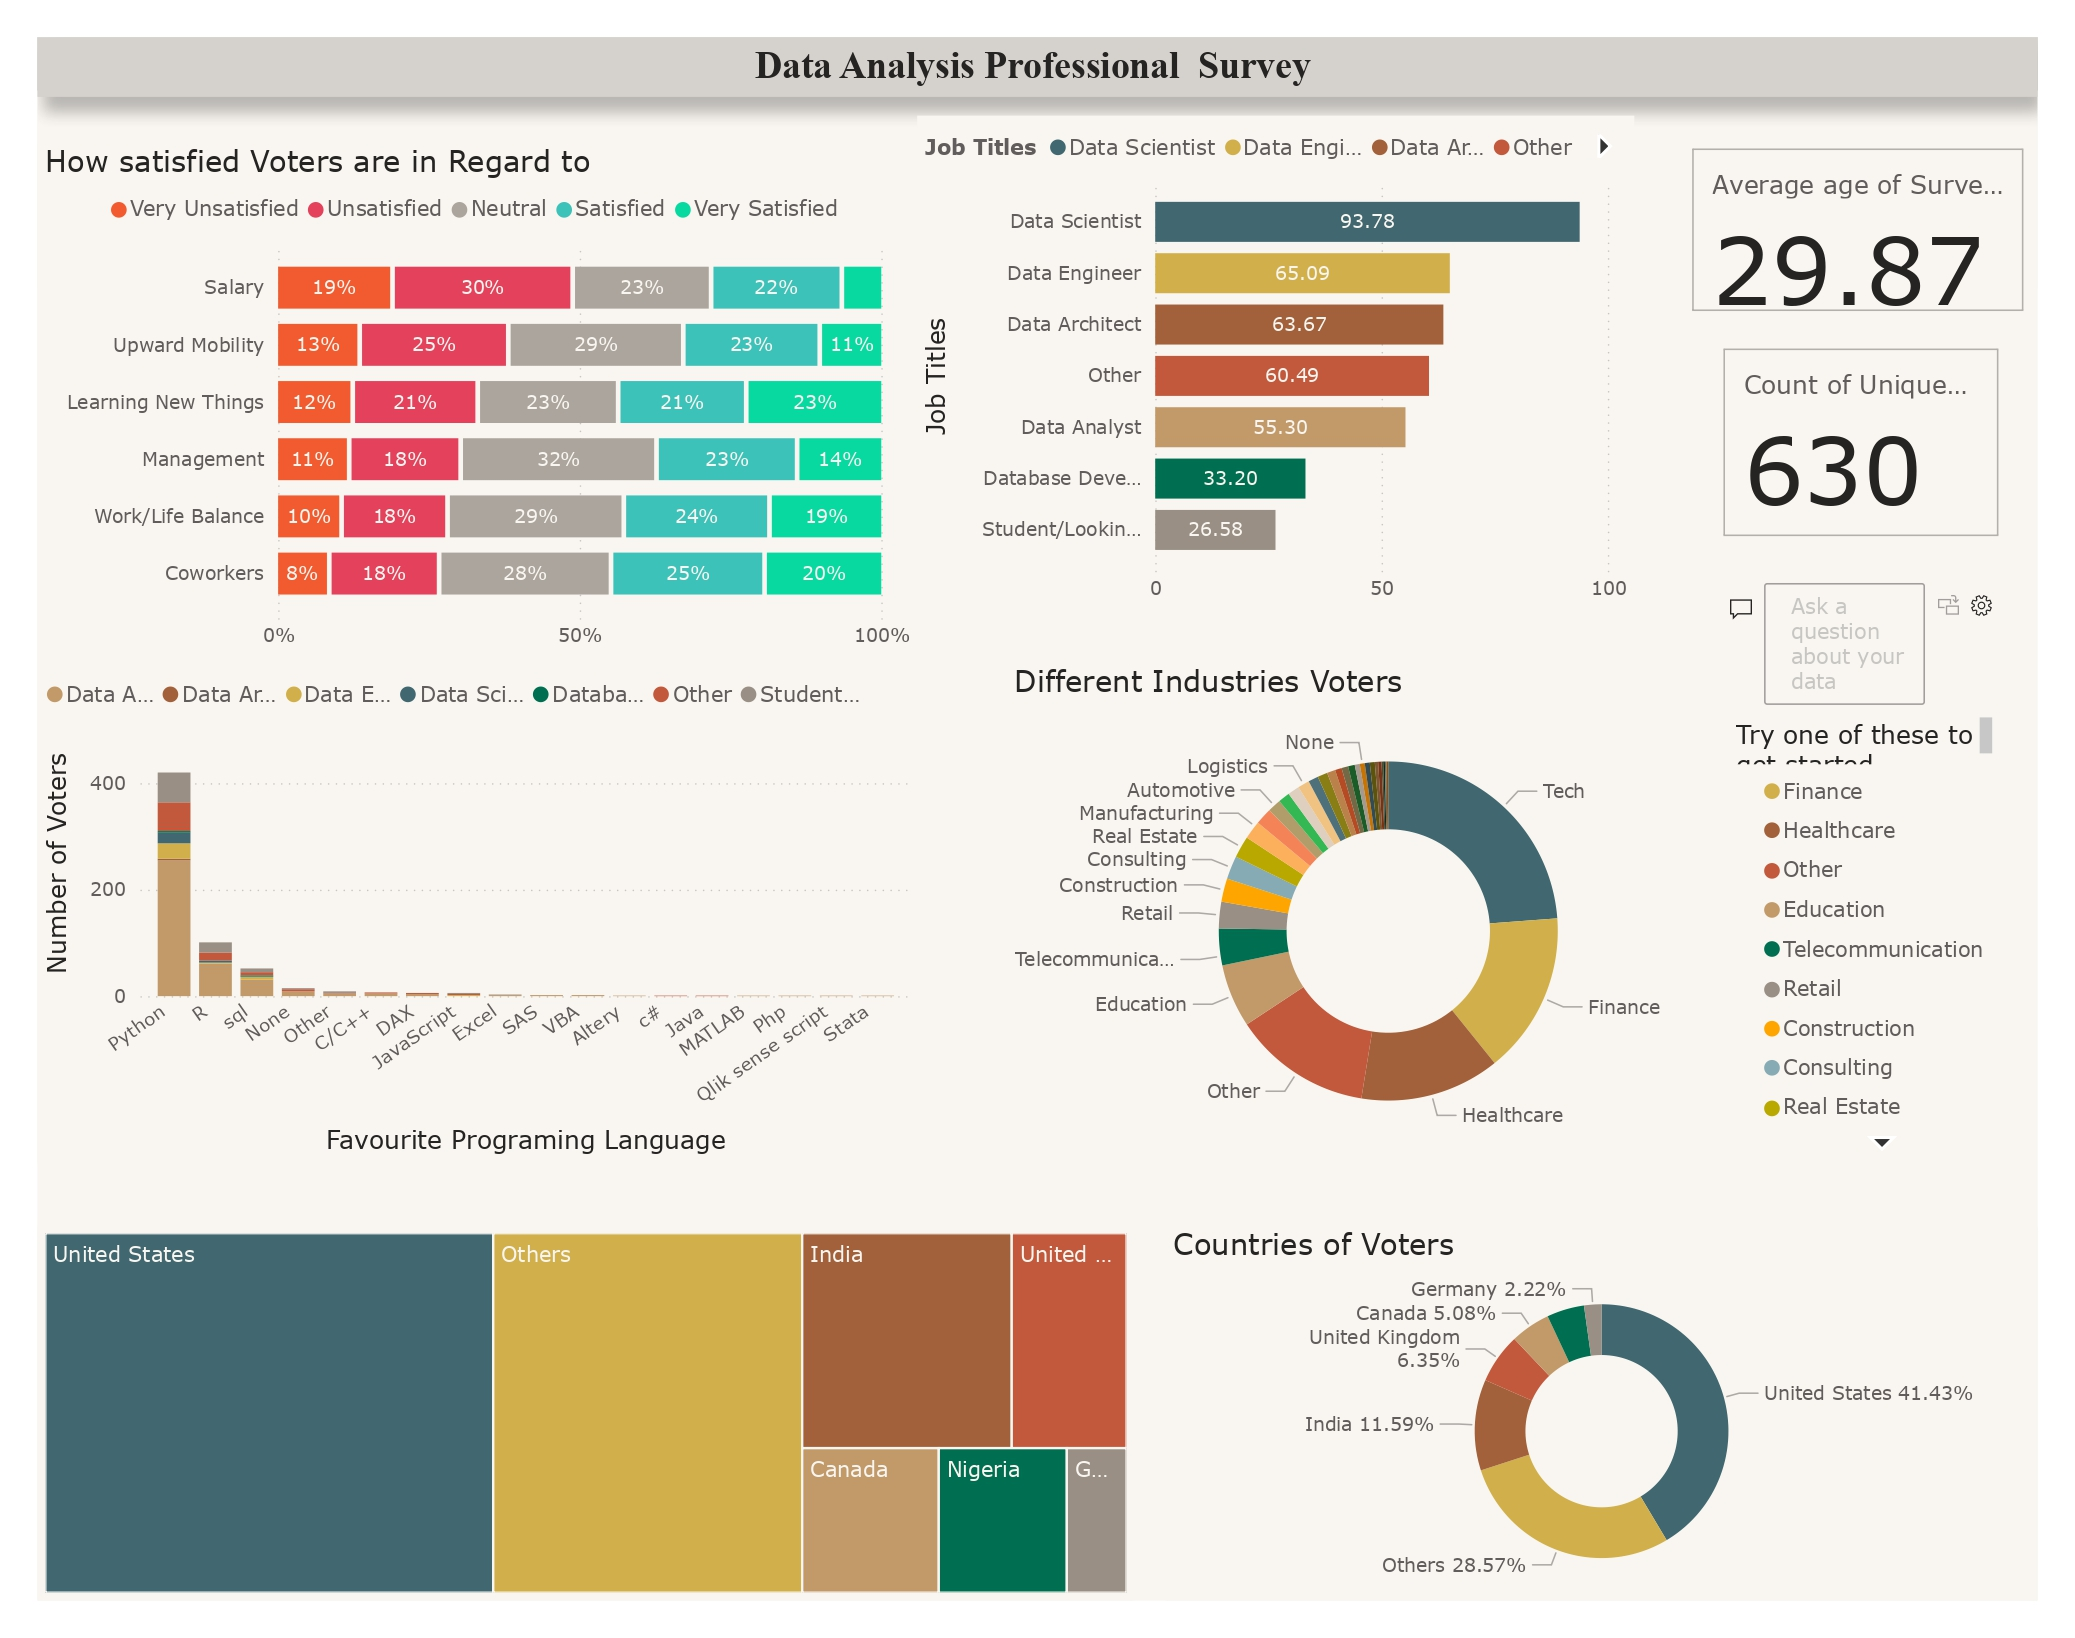

What the dashboard file says about the page in this screenshot:
{"tool":"powerbi","page":{"name":"Basic Visuals ","canvas":[1280,1000],"ordinal":0},"visuals":[{"type":"cardVisual","fields":{"Data":["CountNonNull(Data Professional Survey.Unique ID)"]},"box":[1073.3,195,186.7,130],"z":0},{"type":"columnChart","title":"Programing languages Used","fields":{"Category":["Data Professional Survey.Normalization"],"Y":["CountNonNull(Data Professional Survey.Unique ID)"],"Series":["Data Professional Survey.Q1 - Which Title Best Fits your Current Role?.1"]},"box":[0,400,564,320],"z":1000},{"type":"donutChart","title":"Different Industries Voters ","fields":{"Category":["Data Professional Survey.Updated Jobs.1"],"Y":["Count(Data Professional Survey.Unique ID)"]},"box":[620,400,640,320],"z":2000},{"type":"textbox","box":[0,0,1280,37.7],"z":3000},{"type":"cardVisual","fields":{"Data":["Avg(Data Professional Survey.Q10 - Current Age)"]},"box":[1072.9,67.1,187.1,114.3],"z":4000},{"type":"barChart","title":"Average Salary of Diffrent Roles   ","fields":{"Category":["Data Professional Survey.Q1 - Which Title Best Fits your Current Role?.1"],"Y":["Avg(Data Professional Survey.AverageSalary)"],"Series":["Data Professional Survey.Q1 - Which Title Best Fits your Current Role?.1"]},"box":[563.3,50,458.3,320],"z":5000},{"type":"donutChart","title":"Countries of Voters ","fields":{"Category":["Data Professional Survey.Country Group"],"Y":["CountNonNull(Data Professional Survey.Country Group)"]},"box":[722,760,558,240],"z":6000},{"type":"hundredPercentStackedBarChart","title":"How satisfied Voters are in Regard to ","fields":{"Y":["Data Pivot Quest.Count_Very_Unsatisfied","Data Pivot Quest.Count_Unsatisfied","Data Pivot Quest.Count_Neutral","Data Pivot Quest.Count_Satisfied","Data Pivot Quest.Count_Very_Satisfied"],"Category":["Questions.Question Category"]},"box":[0,66.7,563.3,333.3],"z":8000},{"type":"treemap","fields":{"Group":["Data Professional Survey.Country Group"],"Values":["CountNonNull(Data Professional Survey.Country Group)"]},"box":[0,760,702,240],"z":8001}]}

Visuals, with their boxes in screenshot pixels (x1, y1, x2, y2):
cardVisual - CountNonNull(Data Professional Survey.Unique ID): [1715,342,2006,545]
"Programing languages Used" columnChart: [38,663,919,1163]
"Different Industries Voters " donutChart: [1006,663,2006,1163]
textbox: [38,38,2038,96]
cardVisual - Avg(Data Professional Survey.Q10 - Current Age): [1714,142,2006,321]
"Average Salary of Diffrent Roles   " barChart: [918,116,1634,616]
"Countries of Voters " donutChart: [1166,1225,2038,1600]
"How satisfied Voters are in Regard to " hundredPercentStackedBarChart: [38,142,918,663]
treemap - Data Professional Survey.Country Group x CountNonNull(Data Professional Survey.Country Group): [38,1225,1134,1600]
